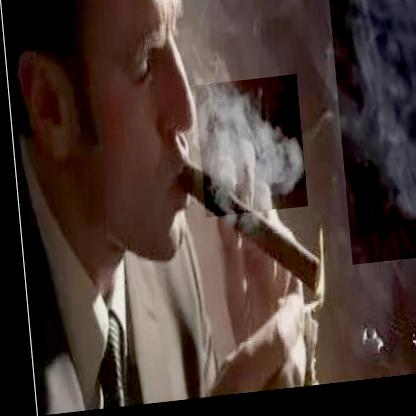smoke: (326, 0, 416, 272), (192, 81, 304, 222)
